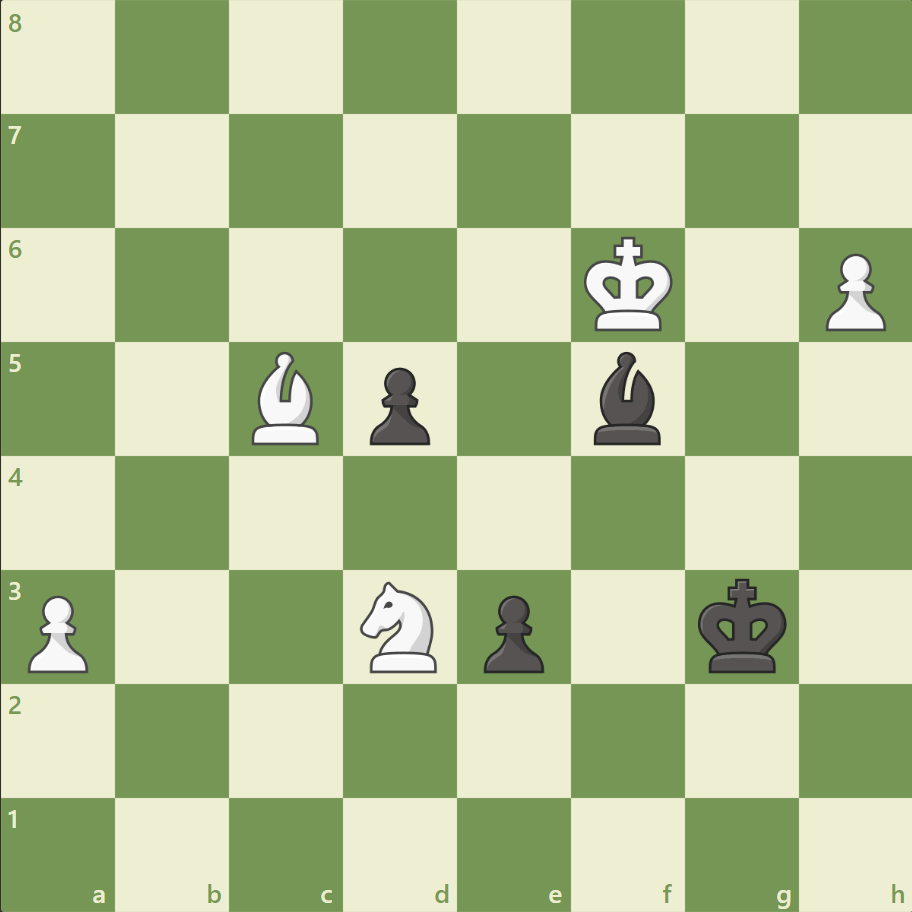B: (244, 347, 328, 449)
K: (579, 231, 679, 339)
N: (351, 575, 449, 677)
P: (20, 586, 95, 677), (815, 246, 889, 337)
b: (585, 347, 669, 449)
k: (692, 571, 792, 679)
p: (474, 586, 549, 677), (361, 359, 435, 450)
